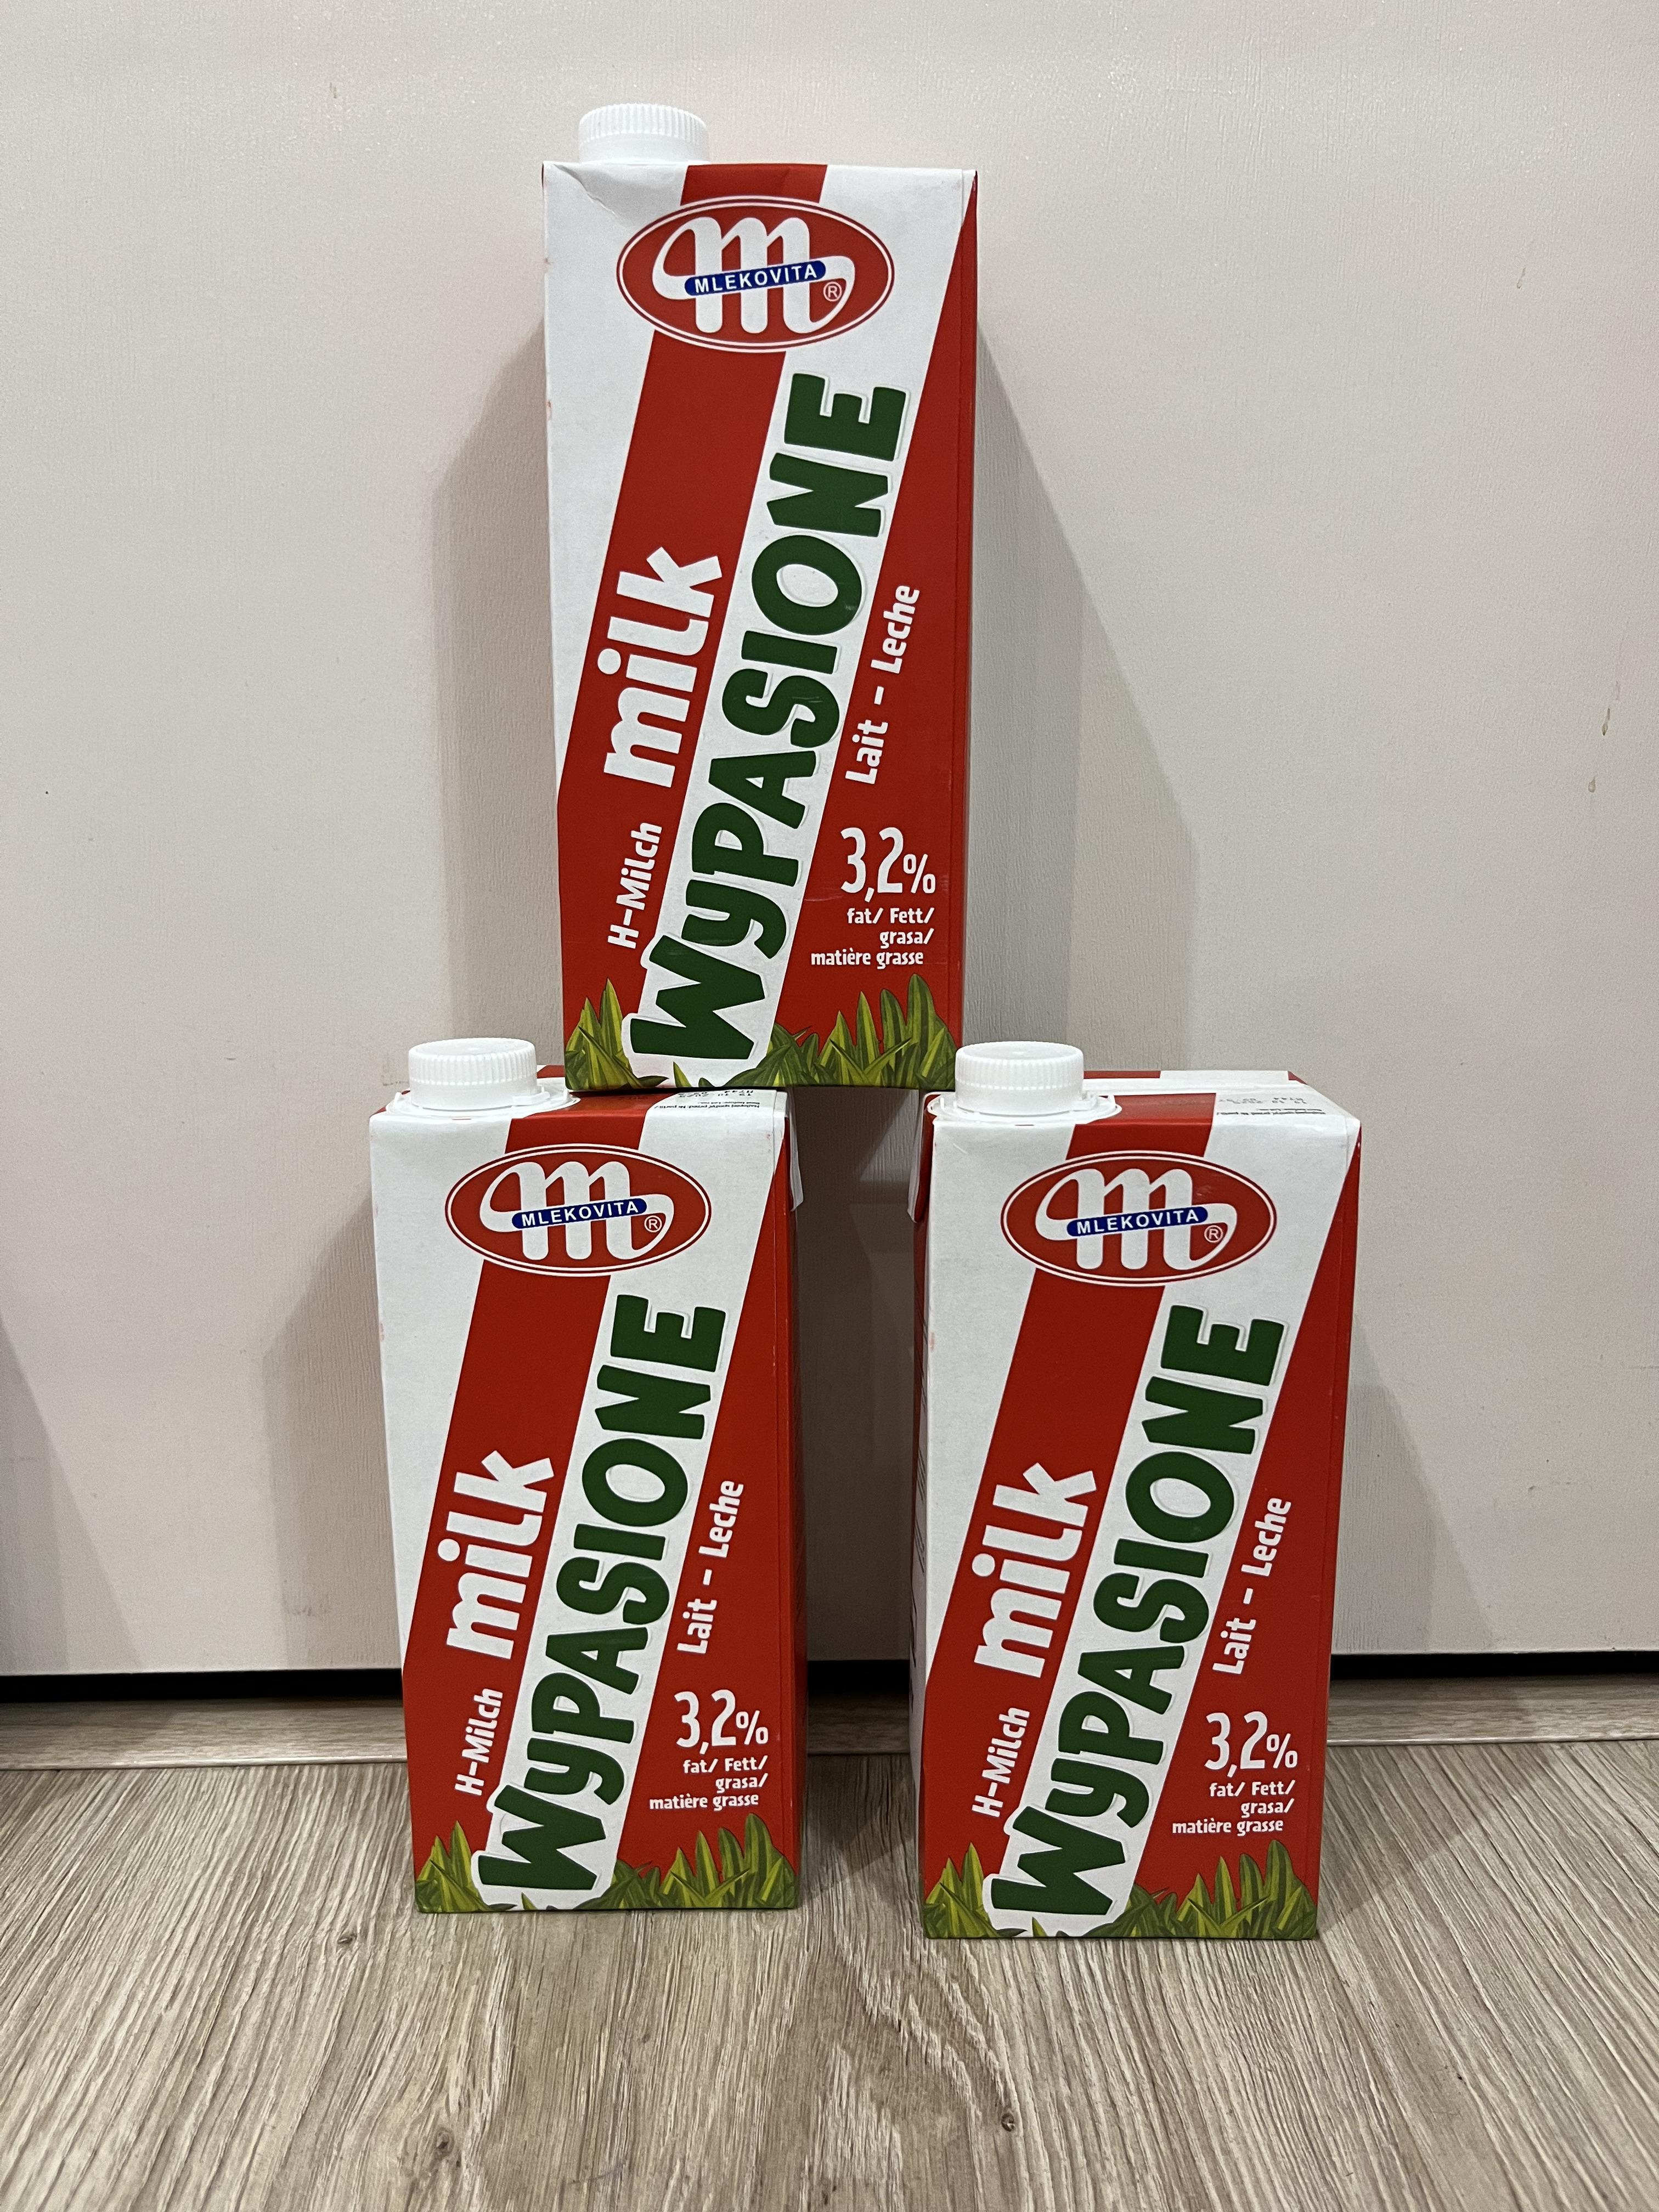Milk: (538, 158, 962, 1099), (913, 1094, 1338, 1959), (369, 1108, 807, 1919)
